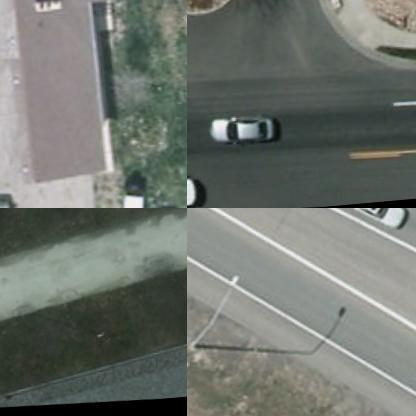car: (333, 208, 410, 240), (206, 112, 272, 147), (106, 184, 144, 207)
